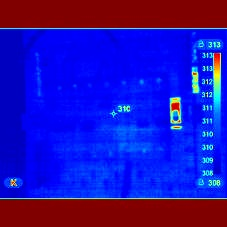Less: (173, 110, 179, 121)
